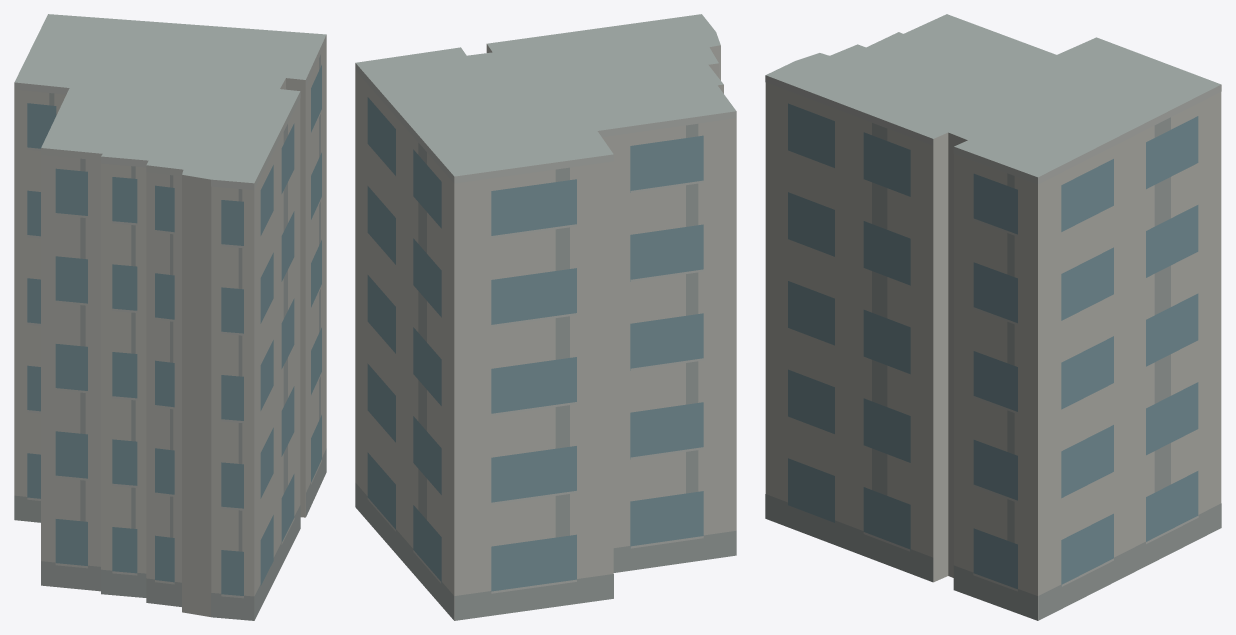
Rendered from survey-upis-32825585.glb.
The picture shows the model from 3 angles, left to right: view 1: azimuth 30°, elevation 25°; view 2: azimuth 150°, elevation 25°; view 3: azimuth 270°, elevation 25°; orthographic projection.
Parts seen in each view (by area): view 1: survey-upis-32825585.tmp; view 2: survey-upis-32825585.tmp; view 3: survey-upis-32825585.tmp.
Boxes of the visible parts, x1,y1,x2,y2 form: survey-upis-32825585.tmp: [14, 14, 326, 620]; survey-upis-32825585.tmp: [355, 14, 736, 620]; survey-upis-32825585.tmp: [765, 14, 1221, 620].
Bounding box in the file's own units: 12.06 × 15.25 × 14.22.
